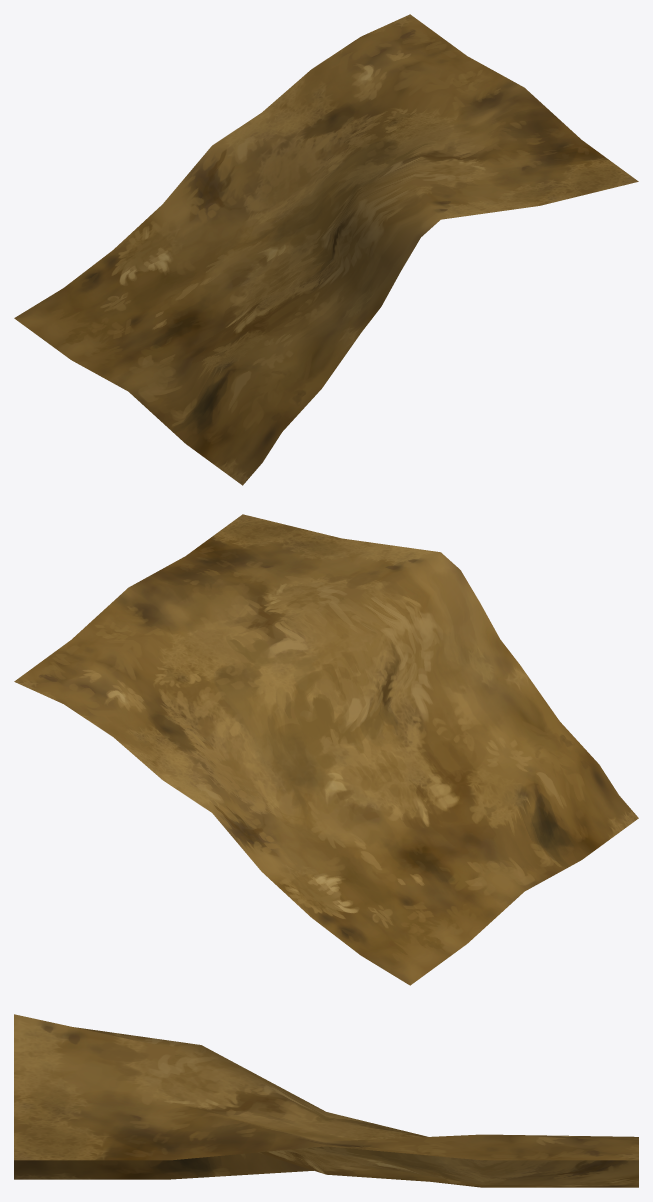
Rendered from Slope_Level_006.fbx.
3 views of the same model, one above another, from view 1: azimuth 30°, elevation 25°; view 2: azimuth 150°, elevation 25°; view 3: azimuth 270°, elevation 25° (orthographic). The views are drawn at different scales.
Visible parts, largest first — view 1: Slope_Level_006; view 2: Slope_Level_006; view 3: Slope_Level_006.
Part boxes in pixels (x1,y1,x2,y2): Slope_Level_006: (14, 14, 638, 485); Slope_Level_006: (14, 514, 638, 985); Slope_Level_006: (14, 1014, 638, 1187).
Bounding box in the file's own units: 10 × 5.25 × 10.
Materials: 1 (1 with a texture image).
